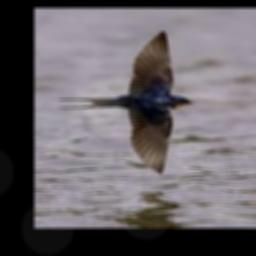Swallow: (57, 31, 194, 175)
